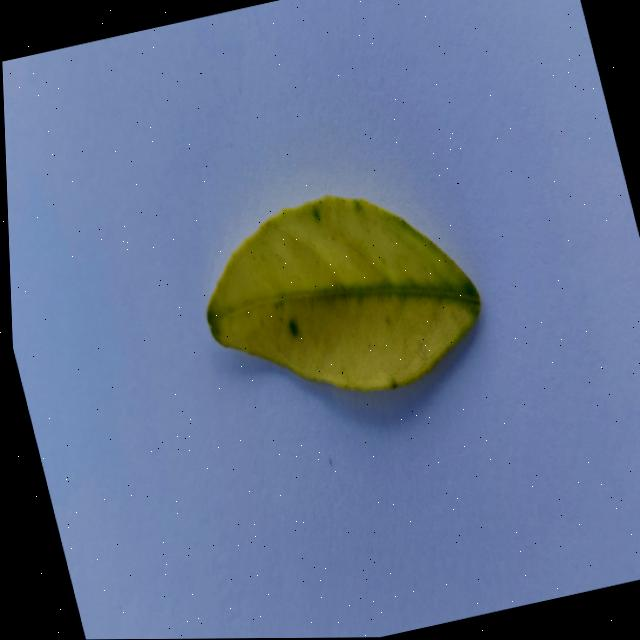greening: (206, 196, 478, 391)
